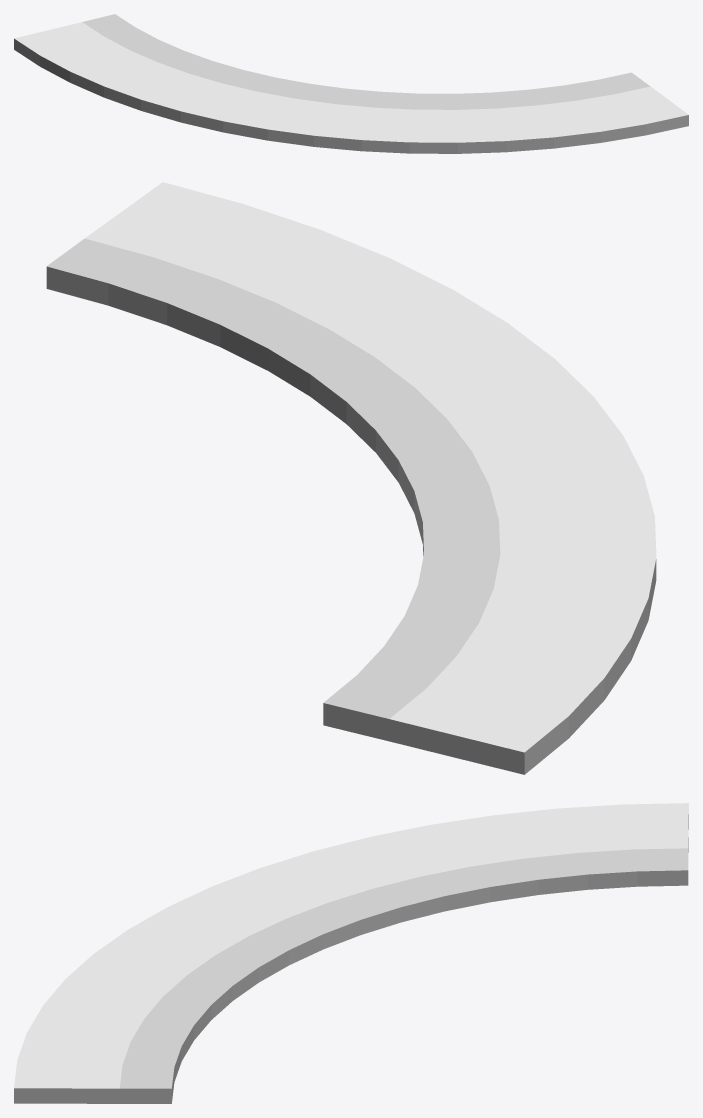
File: Turn_90d_40x40x1.fbx
The picture shows the model from 3 angles, top to bottom: view 1: azimuth 30°, elevation 25°; view 2: azimuth 150°, elevation 25°; view 3: azimuth 270°, elevation 25°; orthographic projection. The views are drawn at different scales.
Parts seen in each view (by area): view 1: Turn_90d_40x40x1; view 2: Turn_90d_40x40x1; view 3: Turn_90d_40x40x1.
Boxes of the visible parts, bbox=[...] form: Turn_90d_40x40x1: bbox=[14, 14, 688, 153]; Turn_90d_40x40x1: bbox=[46, 182, 656, 774]; Turn_90d_40x40x1: bbox=[14, 803, 688, 1103].
Size of the model in its own units: 40.04 by 1 by 40.
